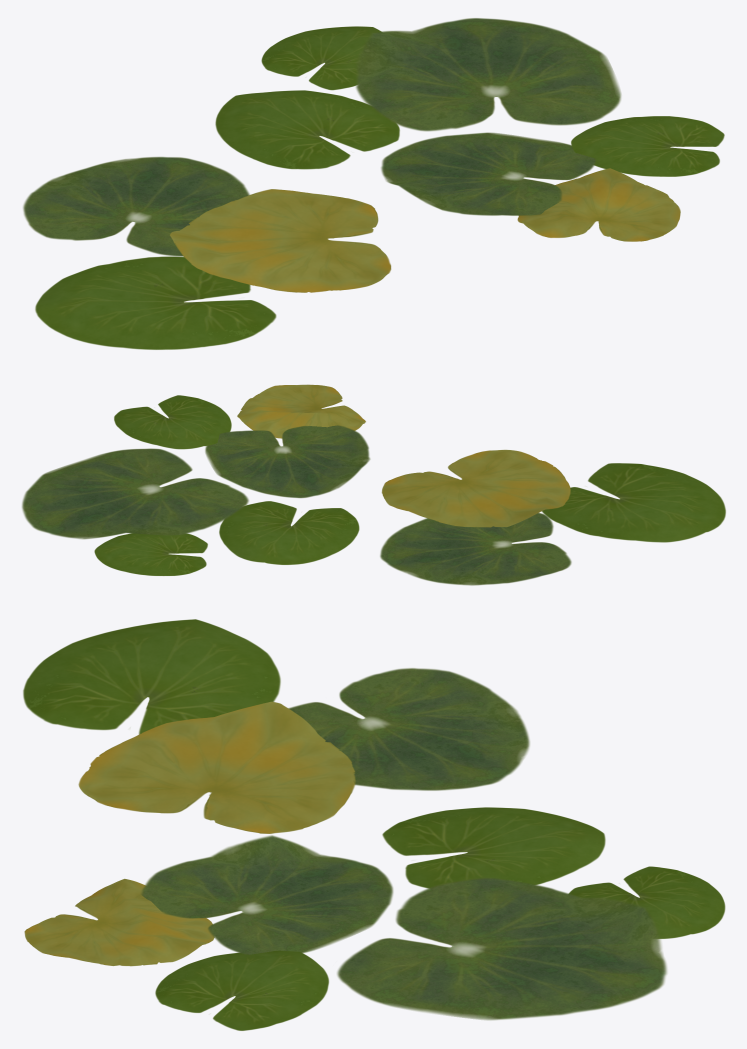
File: SM_Plant_WaterLily_01.gltf
The picture shows the model from 3 angles, top to bottom: view 1: azimuth 30°, elevation 25°; view 2: azimuth 150°, elevation 25°; view 3: azimuth 270°, elevation 25°; orthographic projection. The views are drawn at different scales.
Parts seen in each view (by area): view 1: SM_Plant_WaterLily_01; view 2: SM_Plant_WaterLily_01; view 3: SM_Plant_WaterLily_01.
Boxes of the visible parts, x1=… form: SM_Plant_WaterLily_01: x1=23, y1=18, x2=724, y2=349; SM_Plant_WaterLily_01: x1=22, y1=384, x2=725, y2=585; SM_Plant_WaterLily_01: x1=23, y1=619, x2=725, y2=1030.
Bounding box in the file's own units: 1.46 × 0.0479 × 1.09.
Materials: 1 (1 with a texture image).
